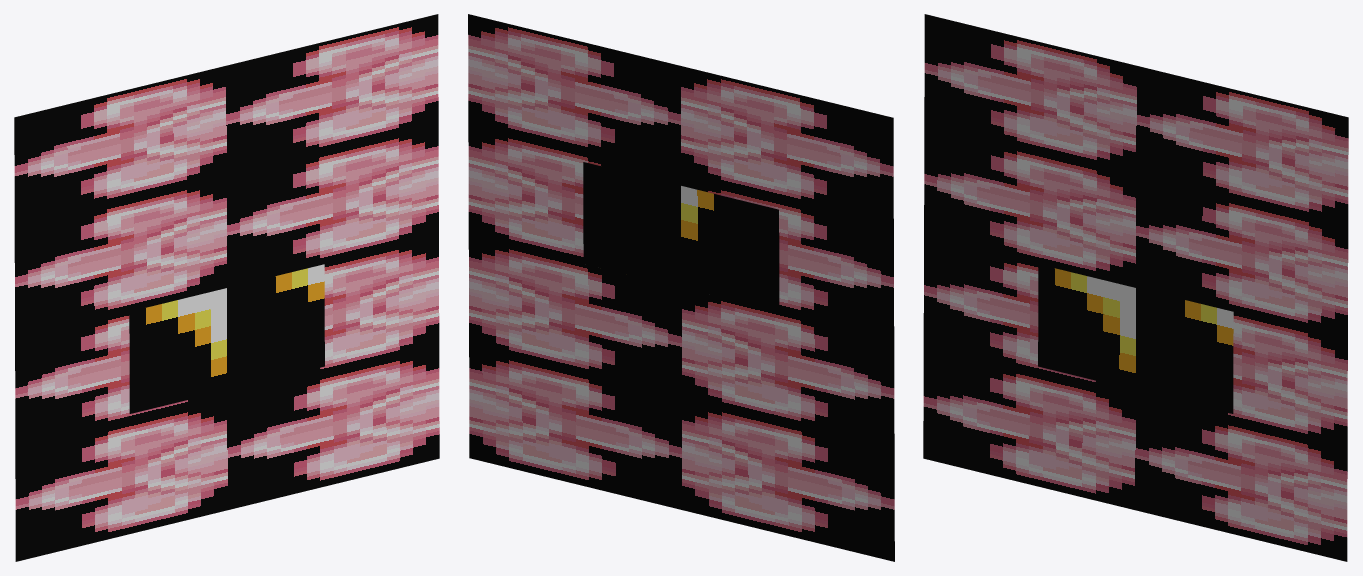
The picture shows the model from 3 angles, left to right: view 1: azimuth 30°, elevation 25°; view 2: azimuth 150°, elevation 25°; view 3: azimuth 330°, elevation 25°; orthographic projection.
Parts seen in each view (by area): view 1: ef_084; view 2: ef_084; view 3: ef_084.
Boxes of the visible parts, <box> form: ef_084: <box>14,14,439,561</box>; ef_084: <box>468,14,894,561</box>; ef_084: <box>923,14,1348,561</box>.
Size of the model in its own units: 0.6968 by 0.6968 by 0.00391.
2 materials, 2 textured.
